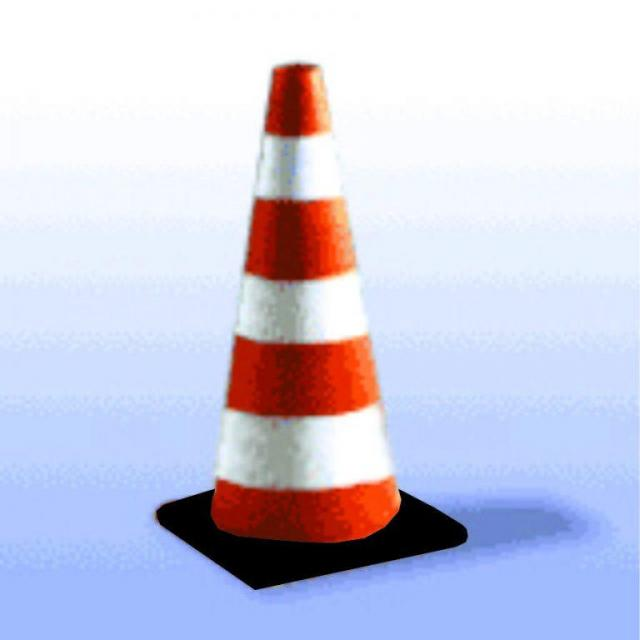cone: (168, 65, 443, 552)
